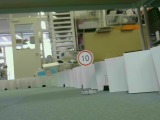speed_10: (76, 49, 95, 67)
